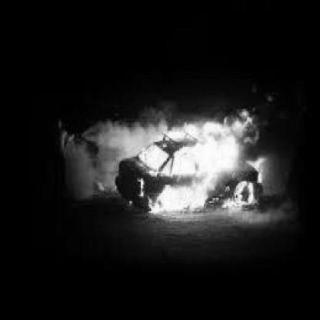Fire: (115, 107, 268, 215)
